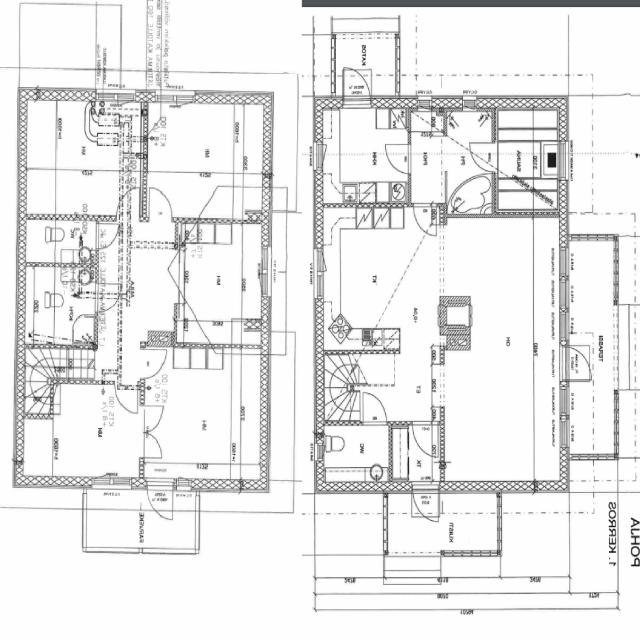door: (558, 345, 596, 381), (146, 478, 173, 524), (344, 64, 371, 108), (413, 482, 438, 526), (413, 421, 438, 456), (149, 186, 173, 222), (140, 348, 167, 378), (115, 380, 138, 415), (118, 186, 140, 222), (470, 142, 498, 170), (363, 391, 386, 424), (414, 204, 437, 237), (385, 144, 411, 173), (96, 283, 121, 310), (140, 404, 164, 430), (140, 430, 164, 456), (96, 224, 118, 248)
